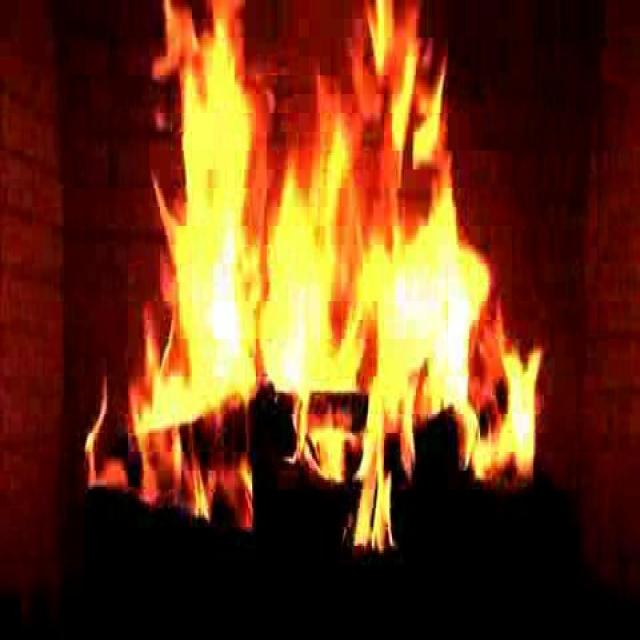fire: (134, 3, 524, 528)
